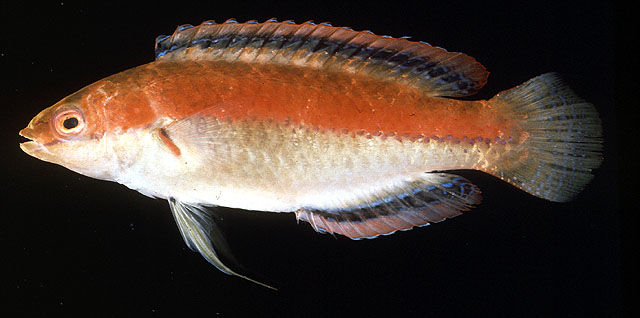fish: (19, 17, 602, 290)
